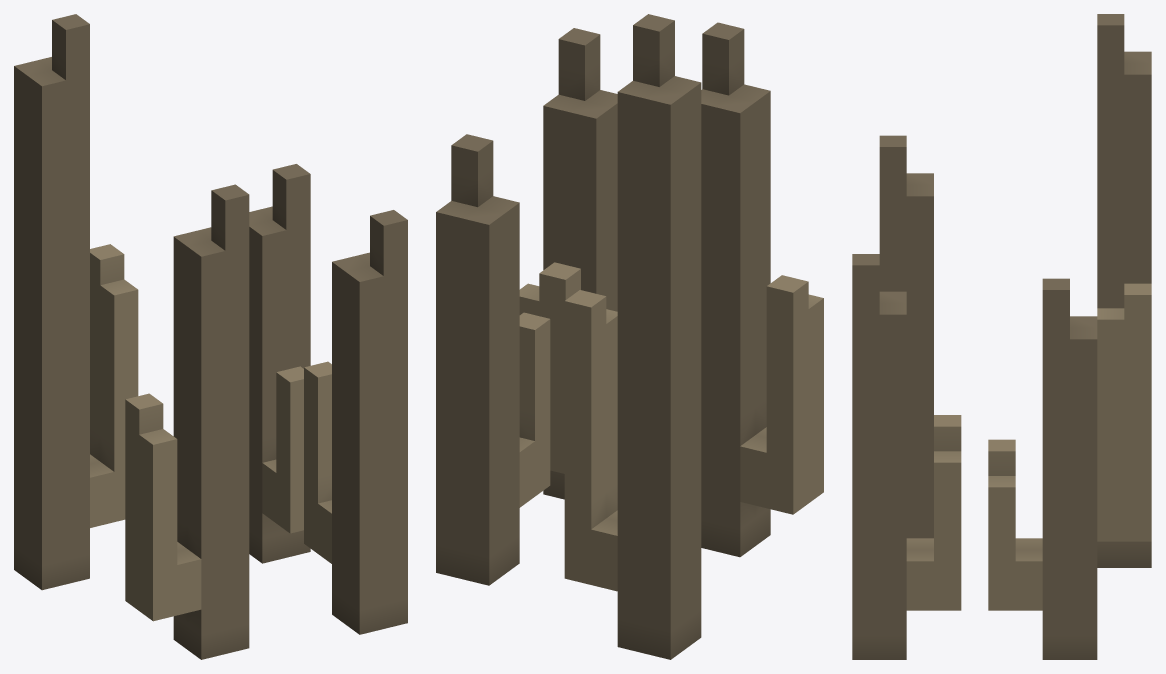
The model's file is reeds_1_winter.glb.
The picture shows the model from 3 angles, left to right: view 1: azimuth 30°, elevation 25°; view 2: azimuth 150°, elevation 25°; view 3: azimuth 270°, elevation 25°; orthographic projection. The views are drawn at different scales.
Visible parts, largest first — view 1: VoxelVisual; view 2: VoxelVisual; view 3: VoxelVisual.
Part boxes in pixels (x1=…): VoxelVisual: x1=14, y1=14, x2=407, y2=659; VoxelVisual: x1=436, y1=14, x2=823, y2=659; VoxelVisual: x1=852, y1=14, x2=1151, y2=659.
Size of what is drawn, in the model's own units: 0.625 by 1.38 by 0.6875.
